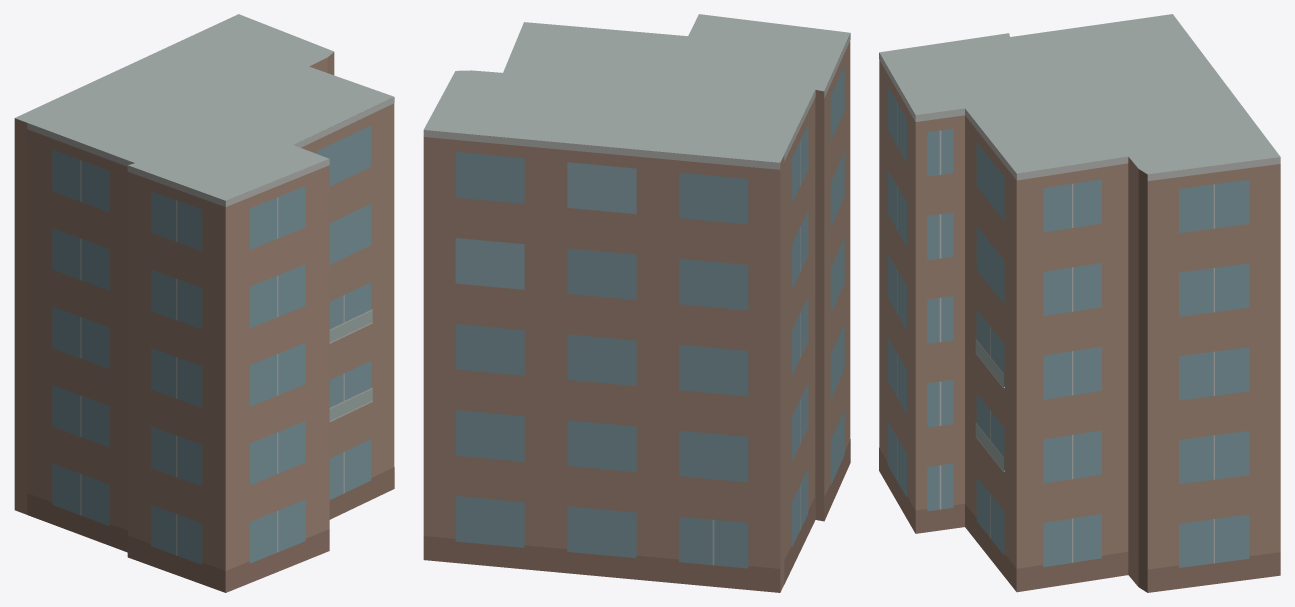
File: survey-upis-32989257.glb
3 views of the same model, side by side, from view 1: azimuth 30°, elevation 25°; view 2: azimuth 150°, elevation 25°; view 3: azimuth 270°, elevation 25° (orthographic). The views are drawn at different scales.
Visible parts, largest first — view 1: survey-upis-32989257.tmp; view 2: survey-upis-32989257.tmp; view 3: survey-upis-32989257.tmp.
Boxes of the visible parts, bbox=[...] form: survey-upis-32989257.tmp: bbox=[14, 14, 394, 592]; survey-upis-32989257.tmp: bbox=[423, 14, 850, 592]; survey-upis-32989257.tmp: bbox=[879, 14, 1280, 592].
Size of the model in its own units: 12.34 by 15 by 13.06.
